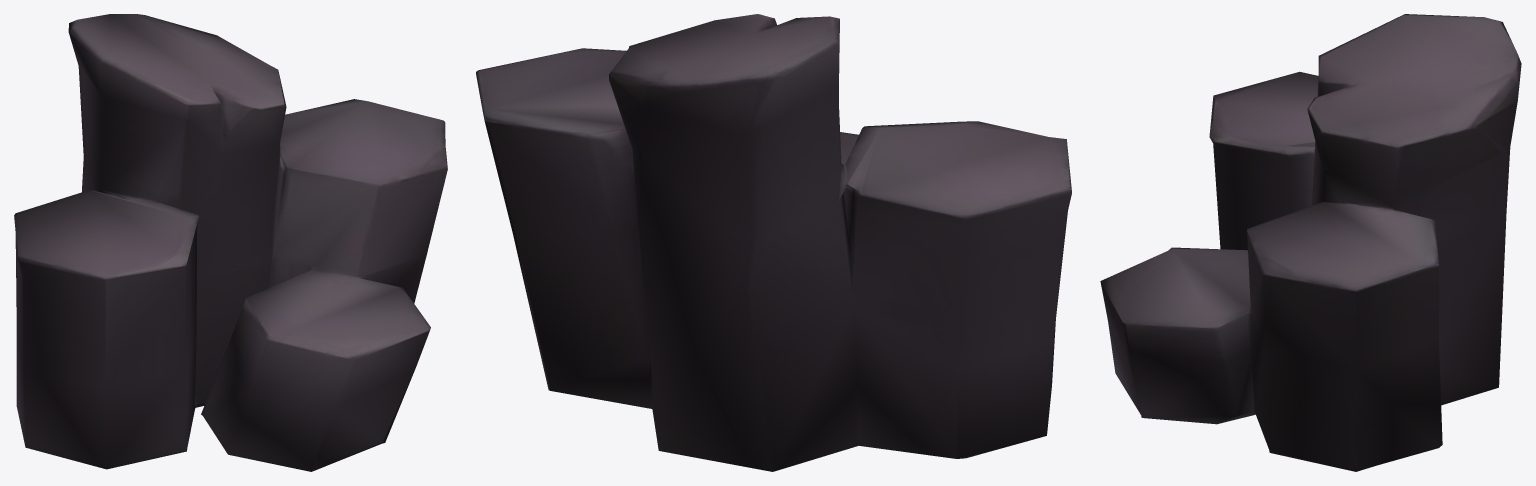
3 views of the same model, side by side, from view 1: azimuth 30°, elevation 25°; view 2: azimuth 150°, elevation 25°; view 3: azimuth 270°, elevation 25° (orthographic). The views are drawn at different scales.
Parts seen in each view (by area): view 1: volcano-rock-1; view 2: volcano-rock-1; view 3: volcano-rock-1.
Part boxes in pixels (x1,y1,x2,y2): volcano-rock-1: (14,14,447,471); volcano-rock-1: (476,14,1071,471); volcano-rock-1: (1100,14,1521,471).
Size of the model in its own units: 0.5741 by 0.3953 by 0.456.
Materials: 1 (1 with a texture image).
